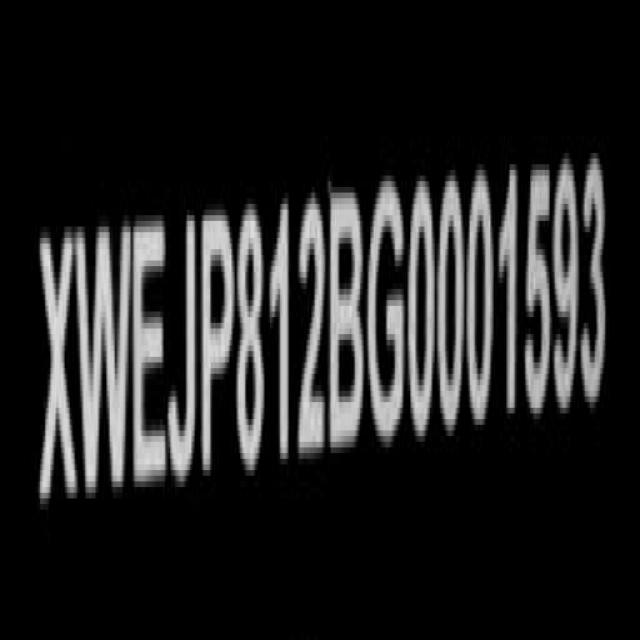0: (436, 174, 466, 440), (464, 163, 492, 433), (410, 177, 438, 445)
1: (269, 193, 293, 482), (499, 162, 522, 428)
2: (298, 196, 330, 471)
3: (582, 154, 612, 418)
5: (525, 155, 552, 422)
8: (237, 206, 265, 484)
9: (554, 162, 580, 422)
B: (329, 184, 366, 464)
E: (132, 217, 166, 502)
G: (368, 175, 408, 453)
J: (168, 213, 204, 494)
P: (204, 208, 236, 489)
W: (79, 214, 134, 507)
X: (36, 227, 77, 516)
